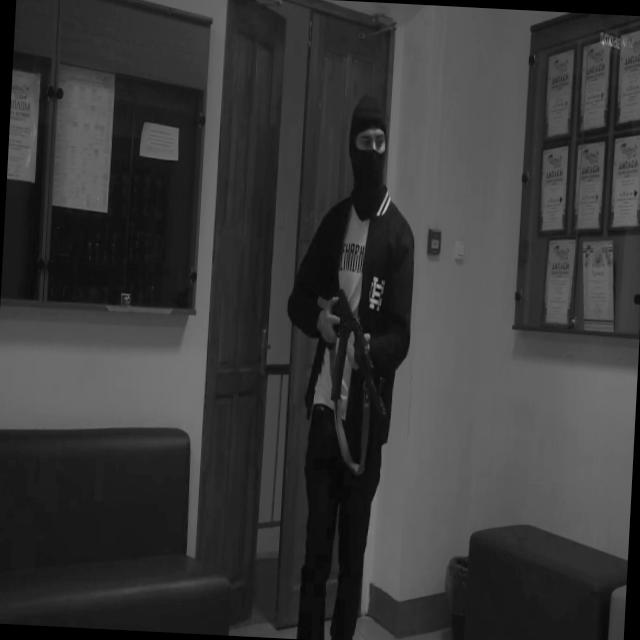gun: (311, 254, 396, 423)
person with a gun: (270, 92, 423, 640)
